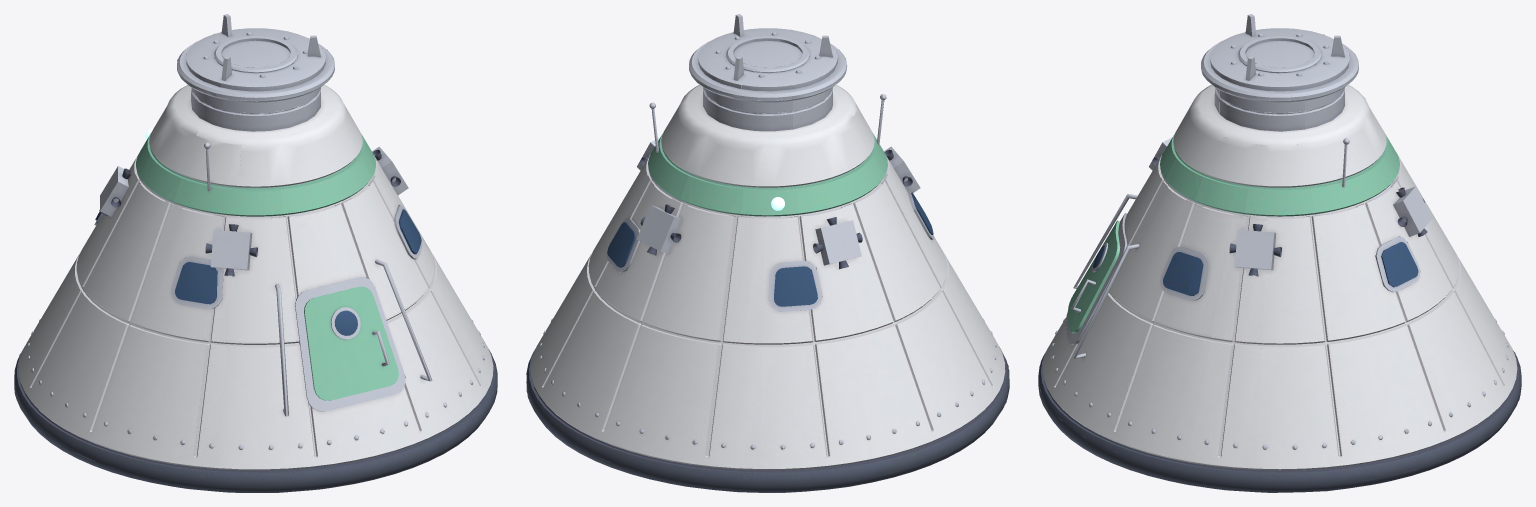
File: space-capsule-light.fbx
3 renders of one model, left to right at view 1: azimuth 30°, elevation 25°; view 2: azimuth 150°, elevation 25°; view 3: azimuth 270°, elevation 25°, orthographic.
Parts seen in each view (by area): view 1: space-capsule_body, space-capsule_hatch_door; view 2: space-capsule_body; view 3: space-capsule_body, space-capsule_hatch_door.
Part boxes in pixels (<box>): space-capsule_body: <box>14,14,497,492</box>; space-capsule_hatch_door: <box>304,286,398,400</box>; space-capsule_body: <box>526,14,1009,492</box>; space-capsule_body: <box>1038,14,1521,492</box>; space-capsule_hatch_door: <box>1067,220,1120,333</box>.
Bounding box in the file's own units: 4.16 × 3.51 × 4.16.
Materials: 3 (2 with a texture image).
